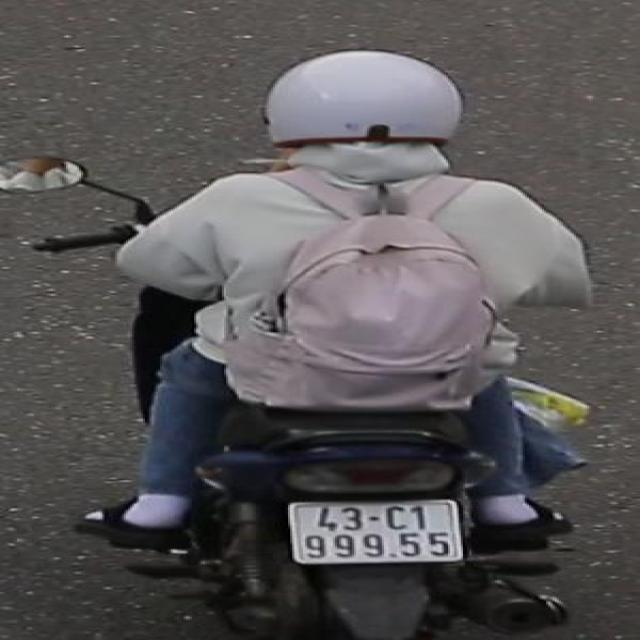LP: (280, 497, 467, 572)
helmet: (256, 47, 471, 172)
